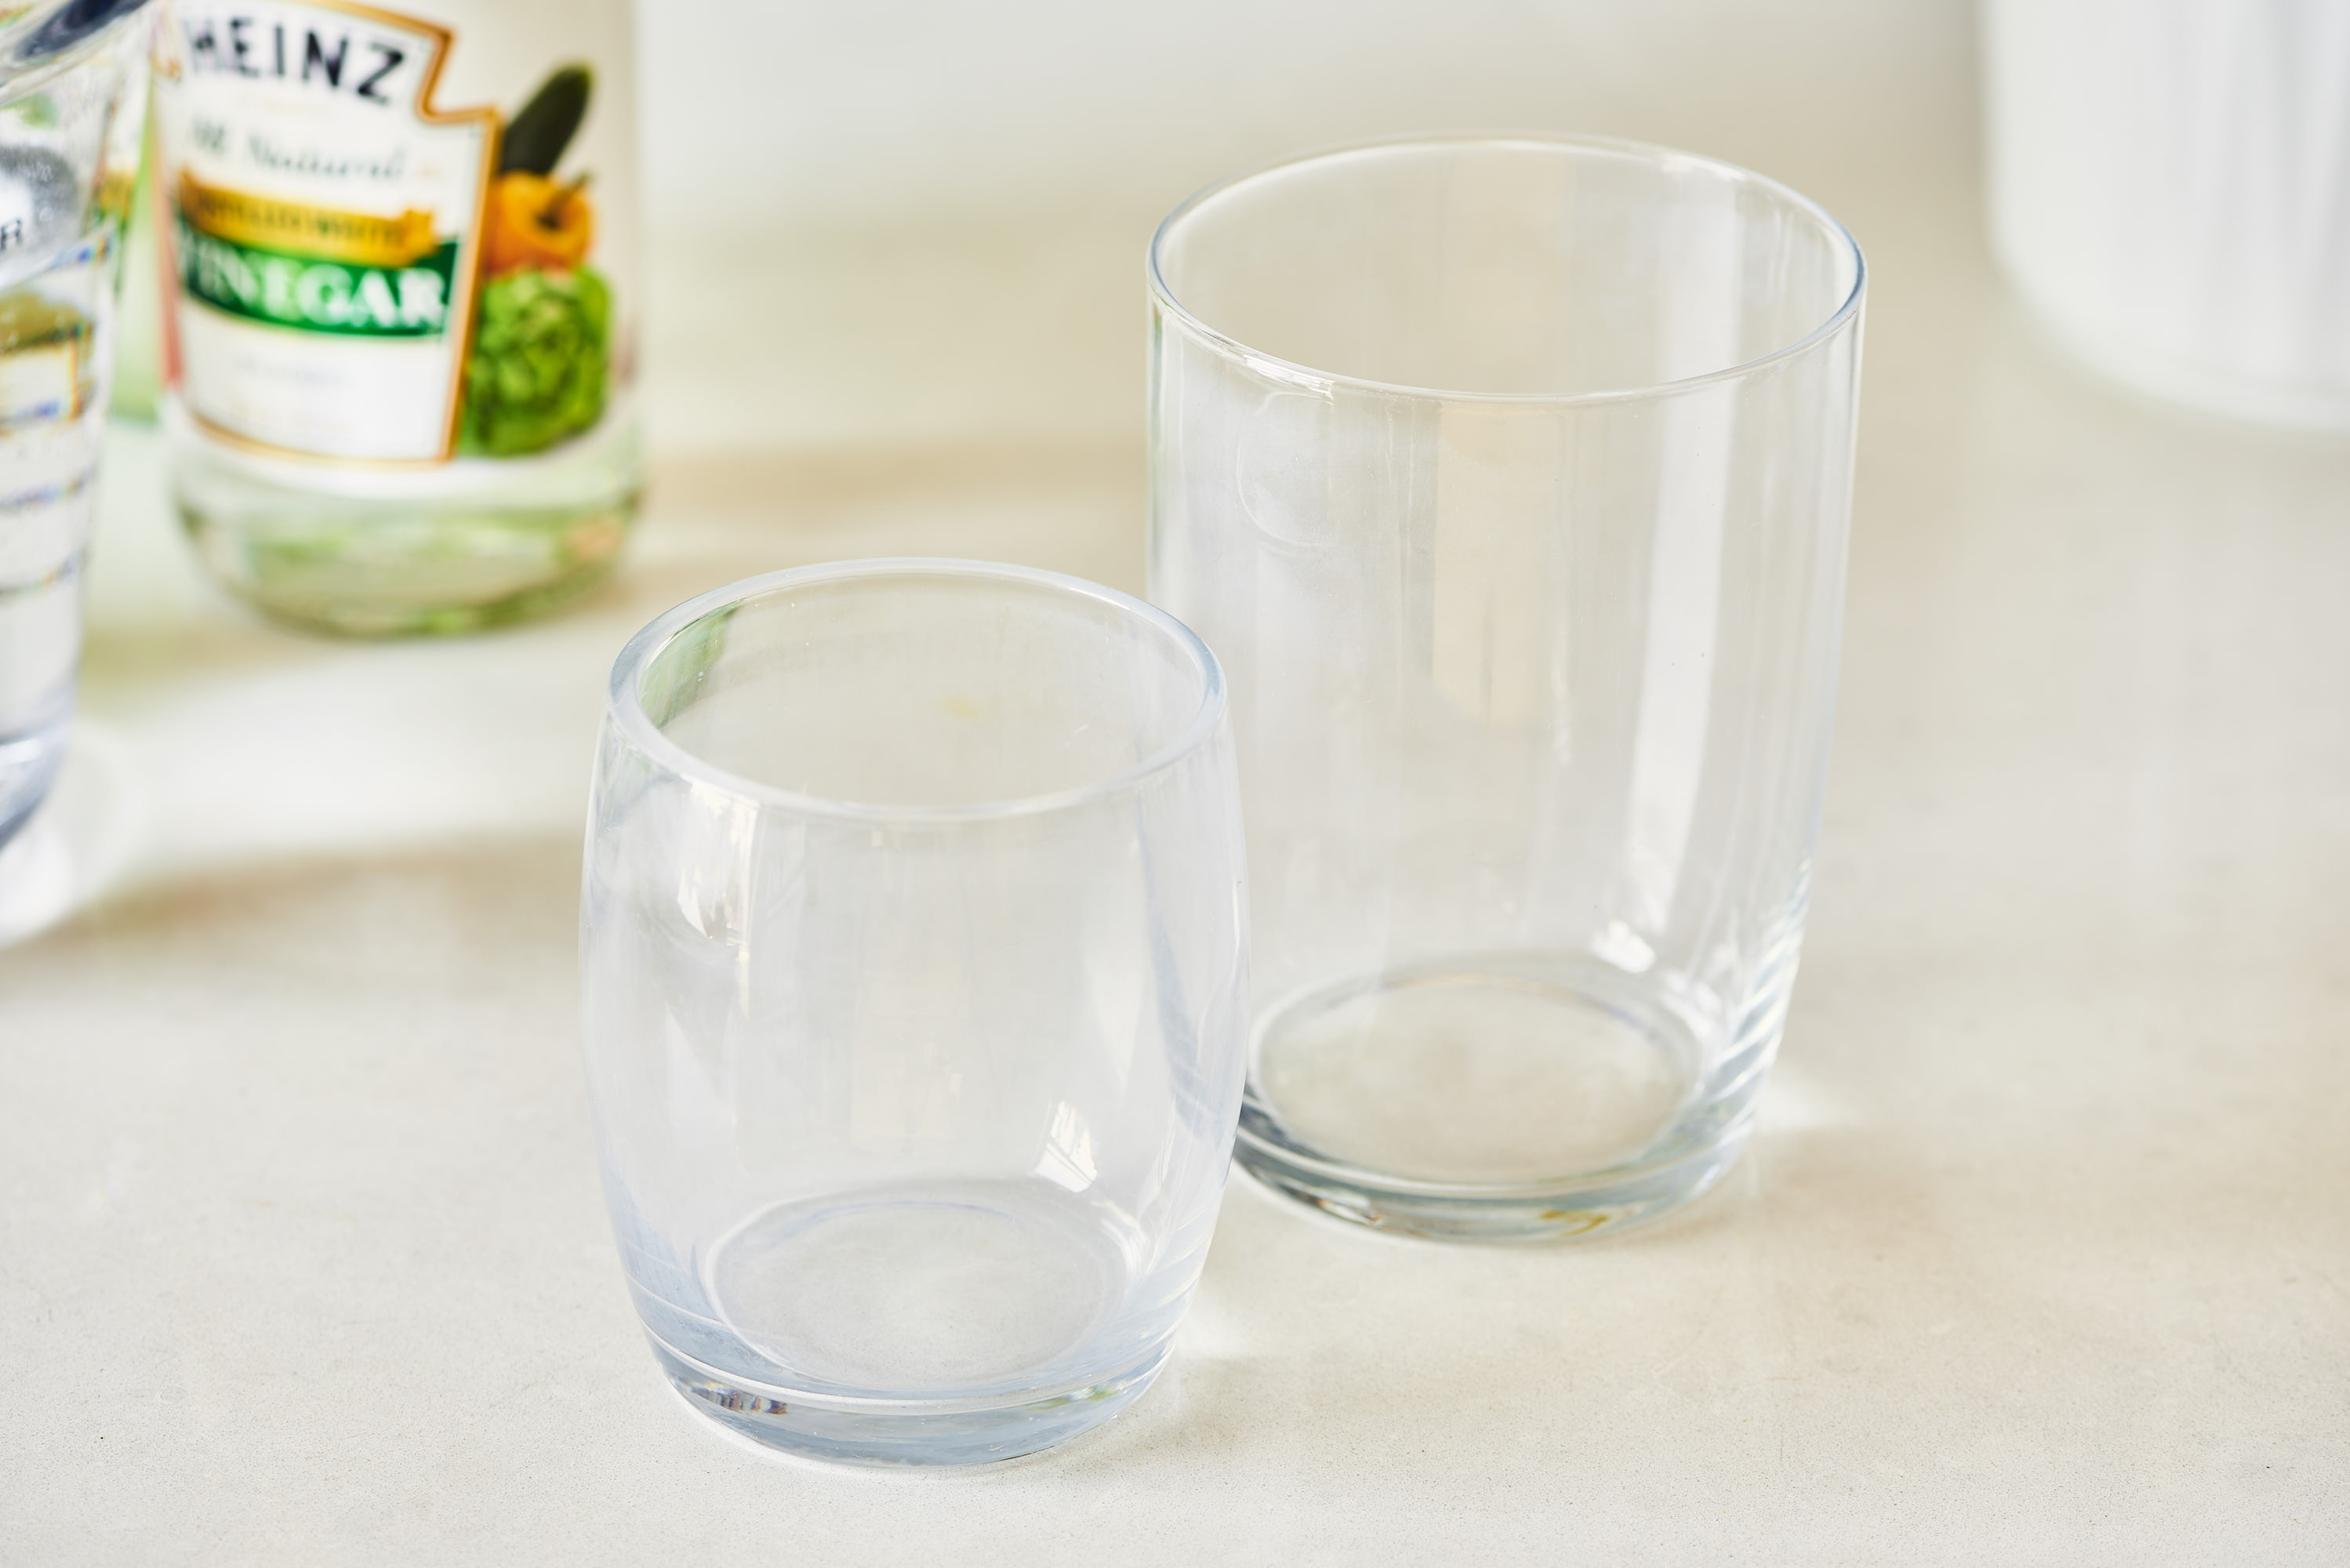glass: (1102, 114, 1893, 1258), (548, 543, 1263, 1479)
